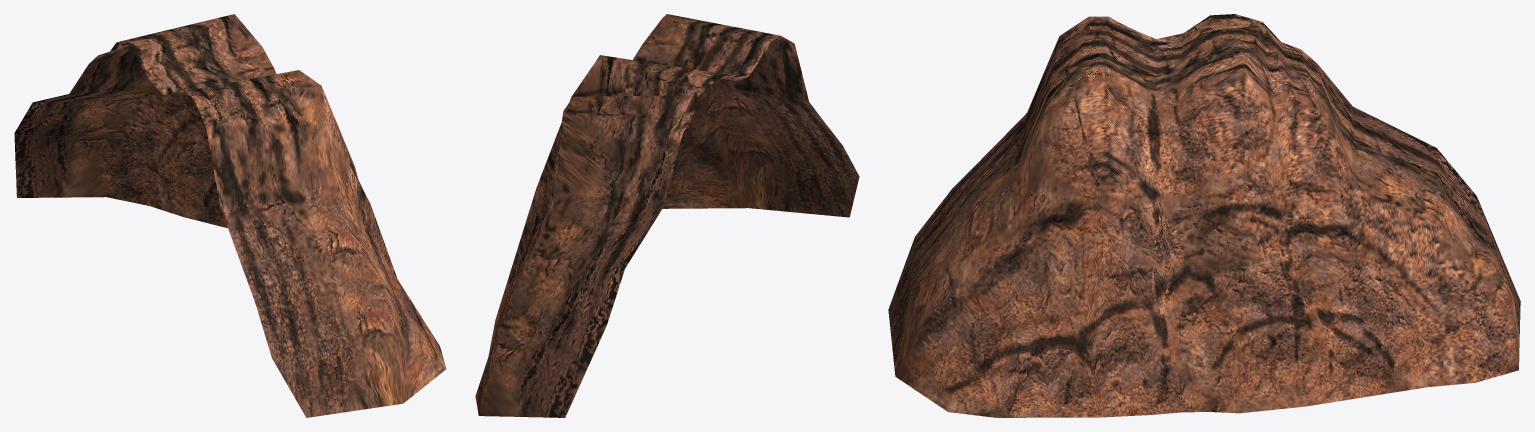
The model's file is object_122.001_lev2.glb.
3 renders of one model, left to right at view 1: azimuth 30°, elevation 25°; view 2: azimuth 150°, elevation 25°; view 3: azimuth 270°, elevation 25°, orthographic. The views are drawn at different scales.
Visible parts, largest first — view 1: object_122.001_lev2; view 2: object_122.001_lev2; view 3: object_122.001_lev2.
Boxes of the visible parts, bbox=[...] form: object_122.001_lev2: bbox=[14, 14, 446, 417]; object_122.001_lev2: bbox=[475, 14, 859, 417]; object_122.001_lev2: bbox=[888, 14, 1520, 417].
Size of the model in its own units: 9 by 11.34 by 21.64.
Materials: 1 (1 with a texture image).
